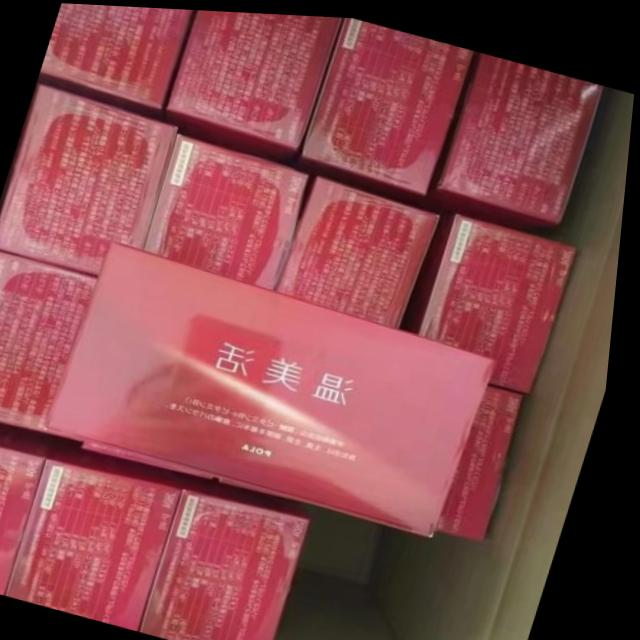box: (54, 238, 504, 531), (0, 82, 179, 275), (17, 438, 196, 629), (296, 14, 475, 204), (424, 47, 604, 223), (407, 208, 581, 388), (151, 472, 316, 640), (166, 8, 341, 161), (147, 130, 310, 287), (280, 171, 443, 325), (0, 248, 103, 432), (41, 2, 194, 123), (448, 376, 531, 536), (0, 422, 68, 595)
